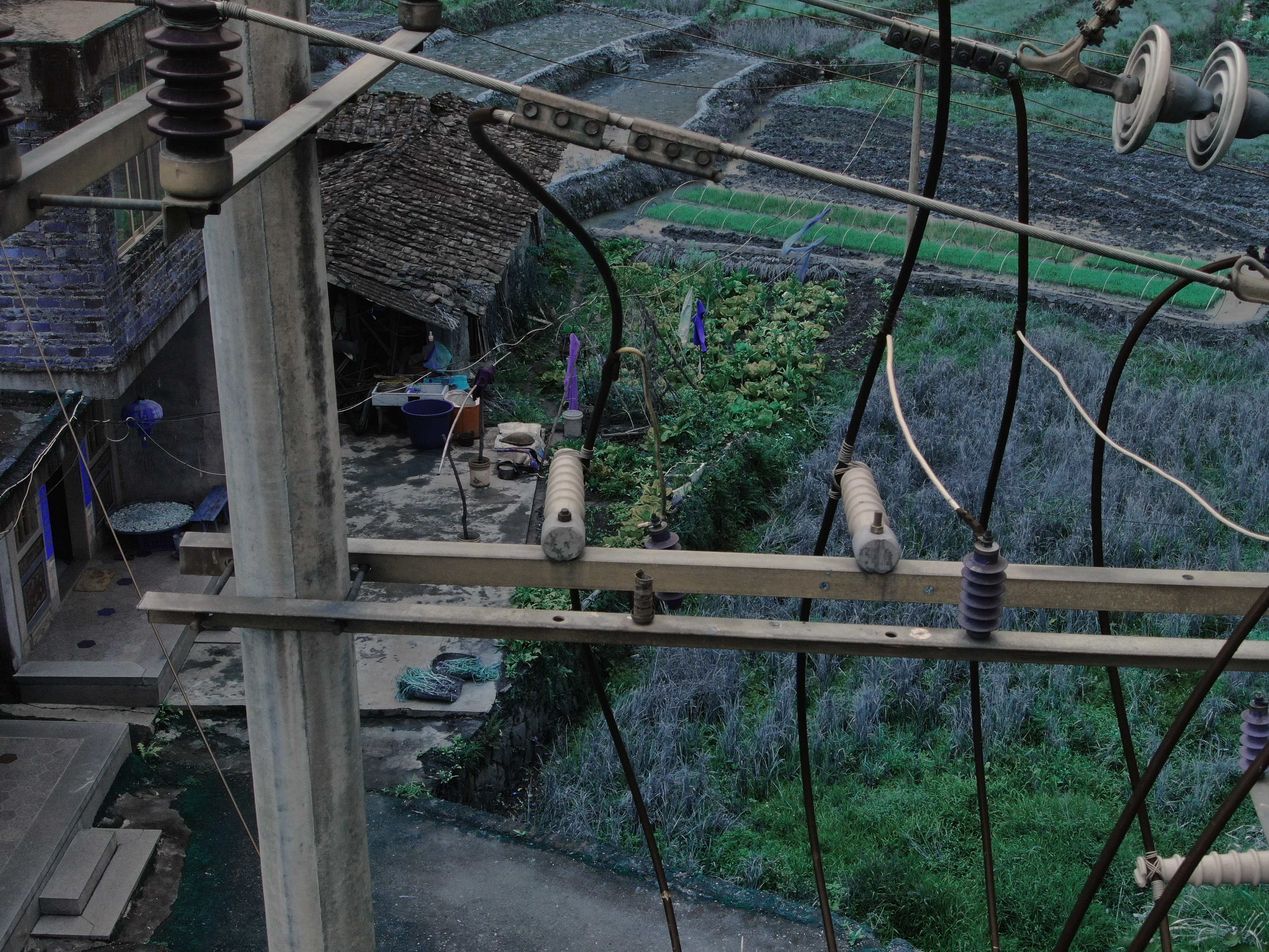severe_soiling_no_discharge_whole: (1107, 21, 1268, 174)
